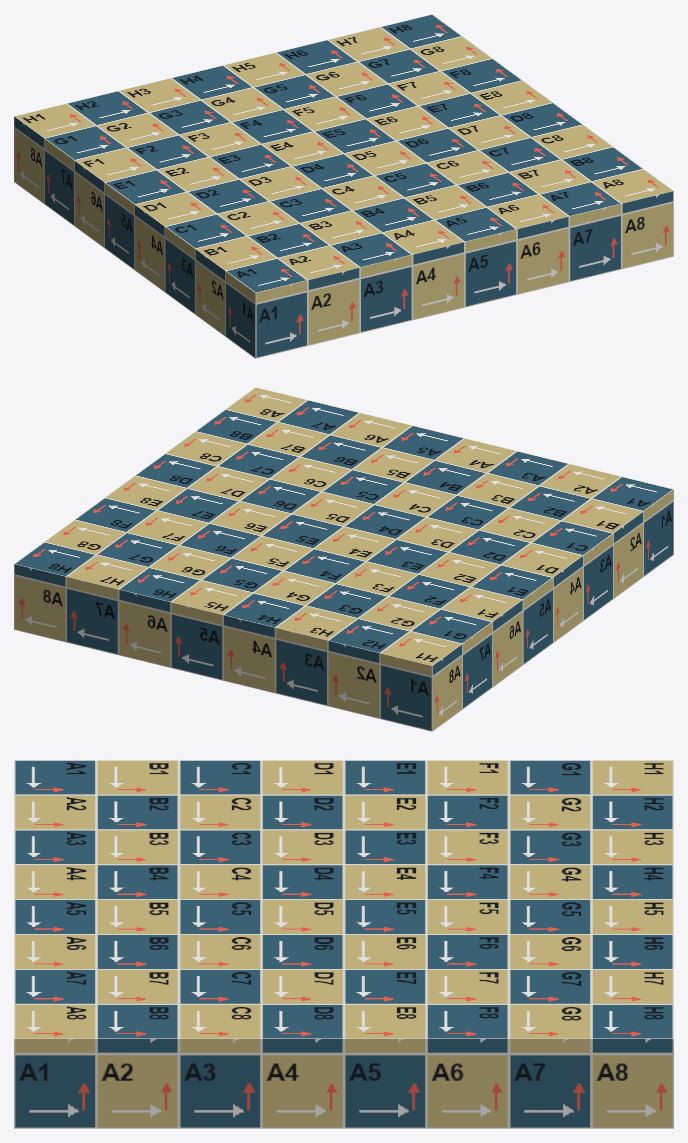
Rendered from CEILING_Recessed.fbx.
3 views of the same model, one above another, from view 1: azimuth 30°, elevation 25°; view 2: azimuth 150°, elevation 25°; view 3: azimuth 270°, elevation 25° (orthographic). The views are drawn at different scales.
Parts seen in each view (by area): view 1: CEILING_Recessed; view 2: CEILING_Recessed; view 3: CEILING_Recessed.
Part boxes in pixels (left/top/right/bottom): CEILING_Recessed: left=14, top=14, right=673, bottom=358; CEILING_Recessed: left=14, top=387, right=673, bottom=731; CEILING_Recessed: left=14, top=760, right=673, bottom=1128.
Bounding box in the file's own units: 200 × 30 × 200.
1 material, 1 textured.
